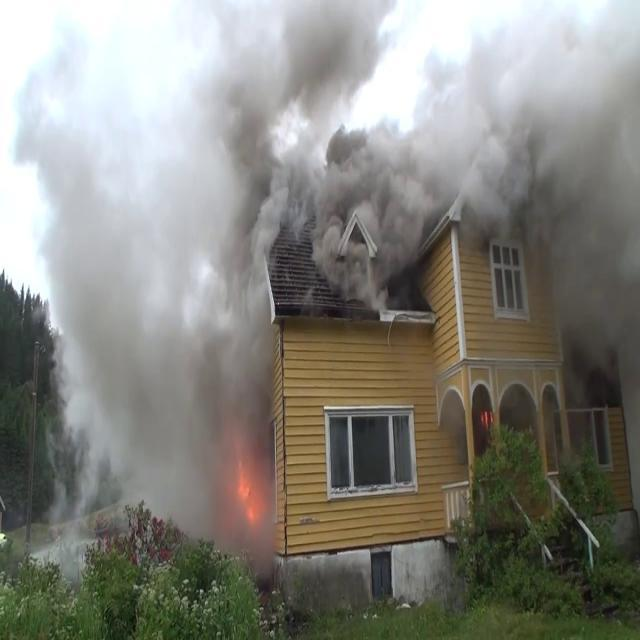Fire: (232, 452, 266, 537)
Smoke: (36, 0, 640, 316), (5, 4, 283, 560), (489, 0, 640, 456)
